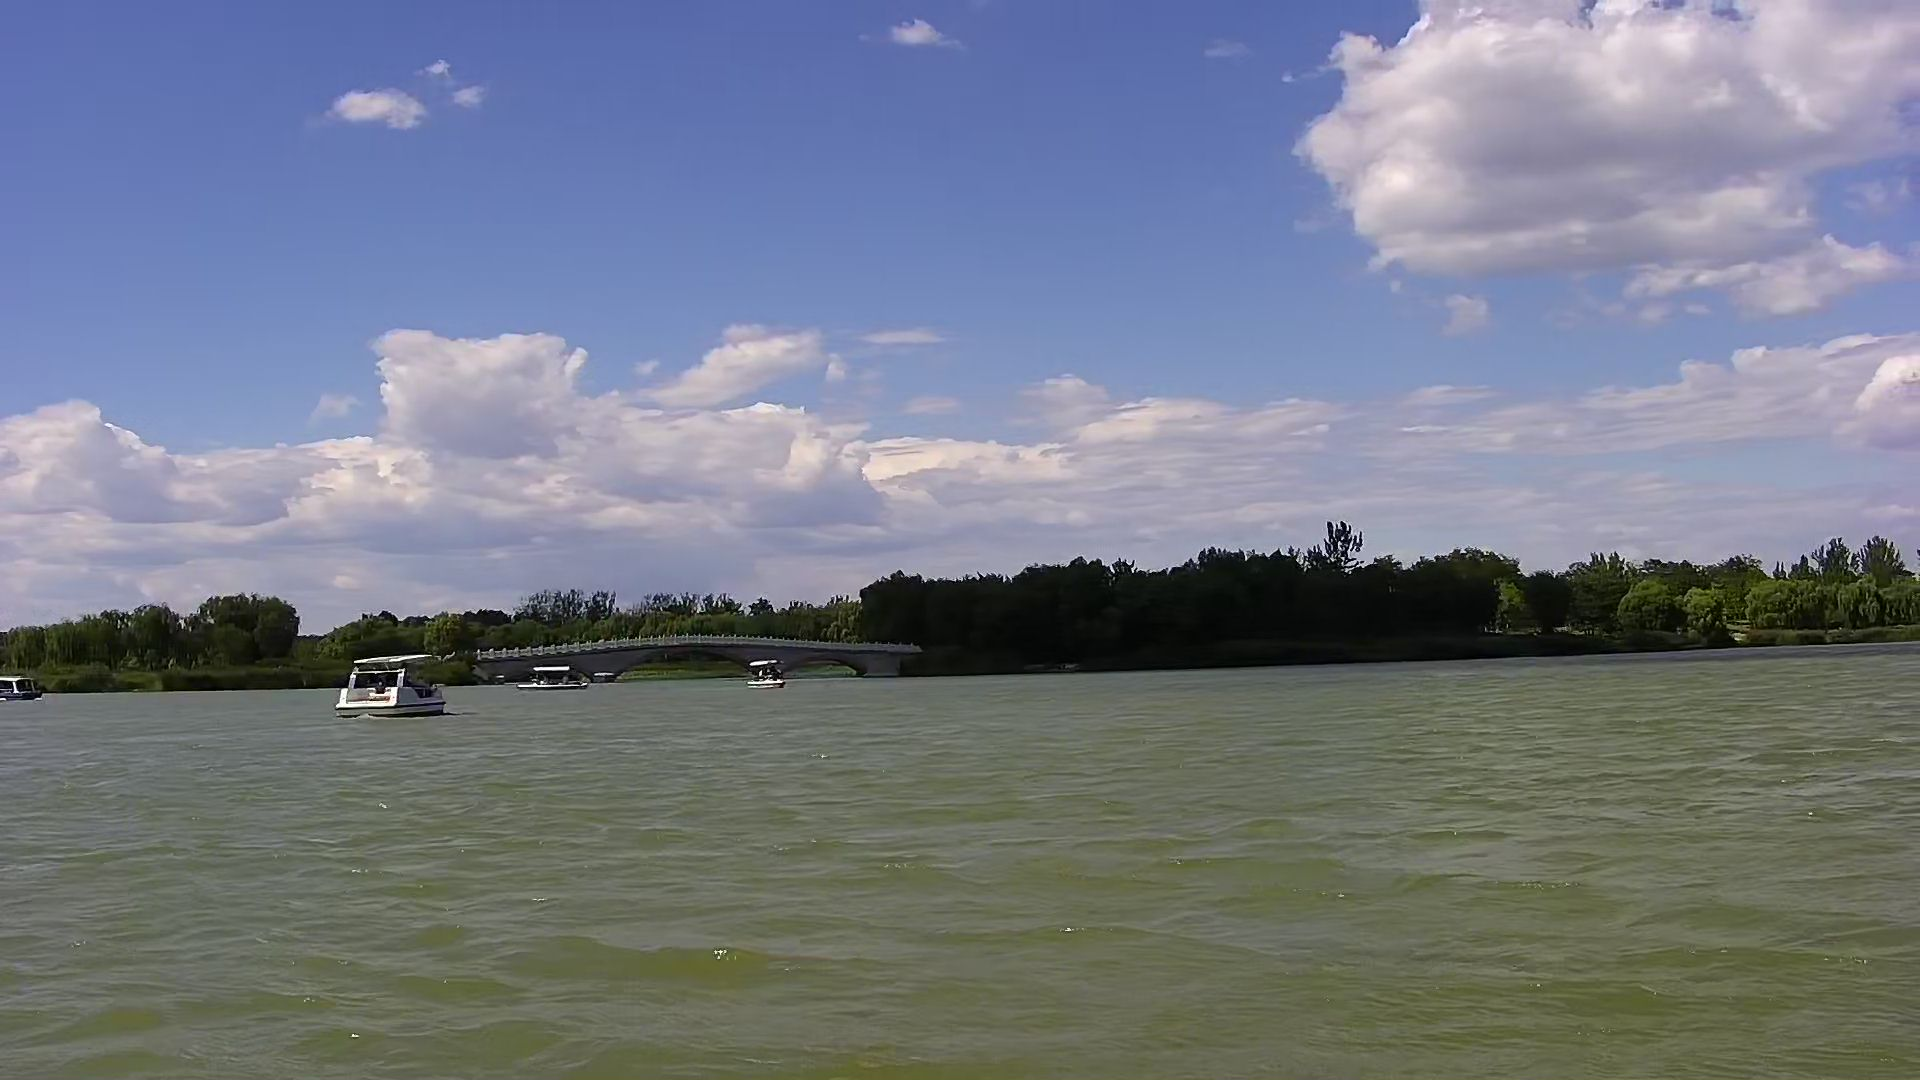boat: (324, 649, 458, 727), (521, 655, 603, 696), (731, 655, 796, 694), (5, 662, 44, 704)
bridge: (479, 628, 915, 684)
